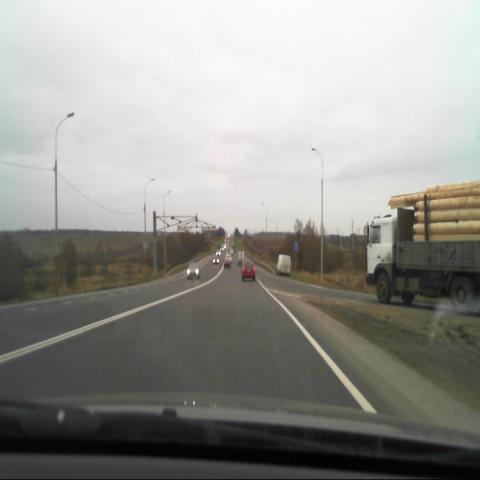5_15_5: (293, 240, 300, 252)
